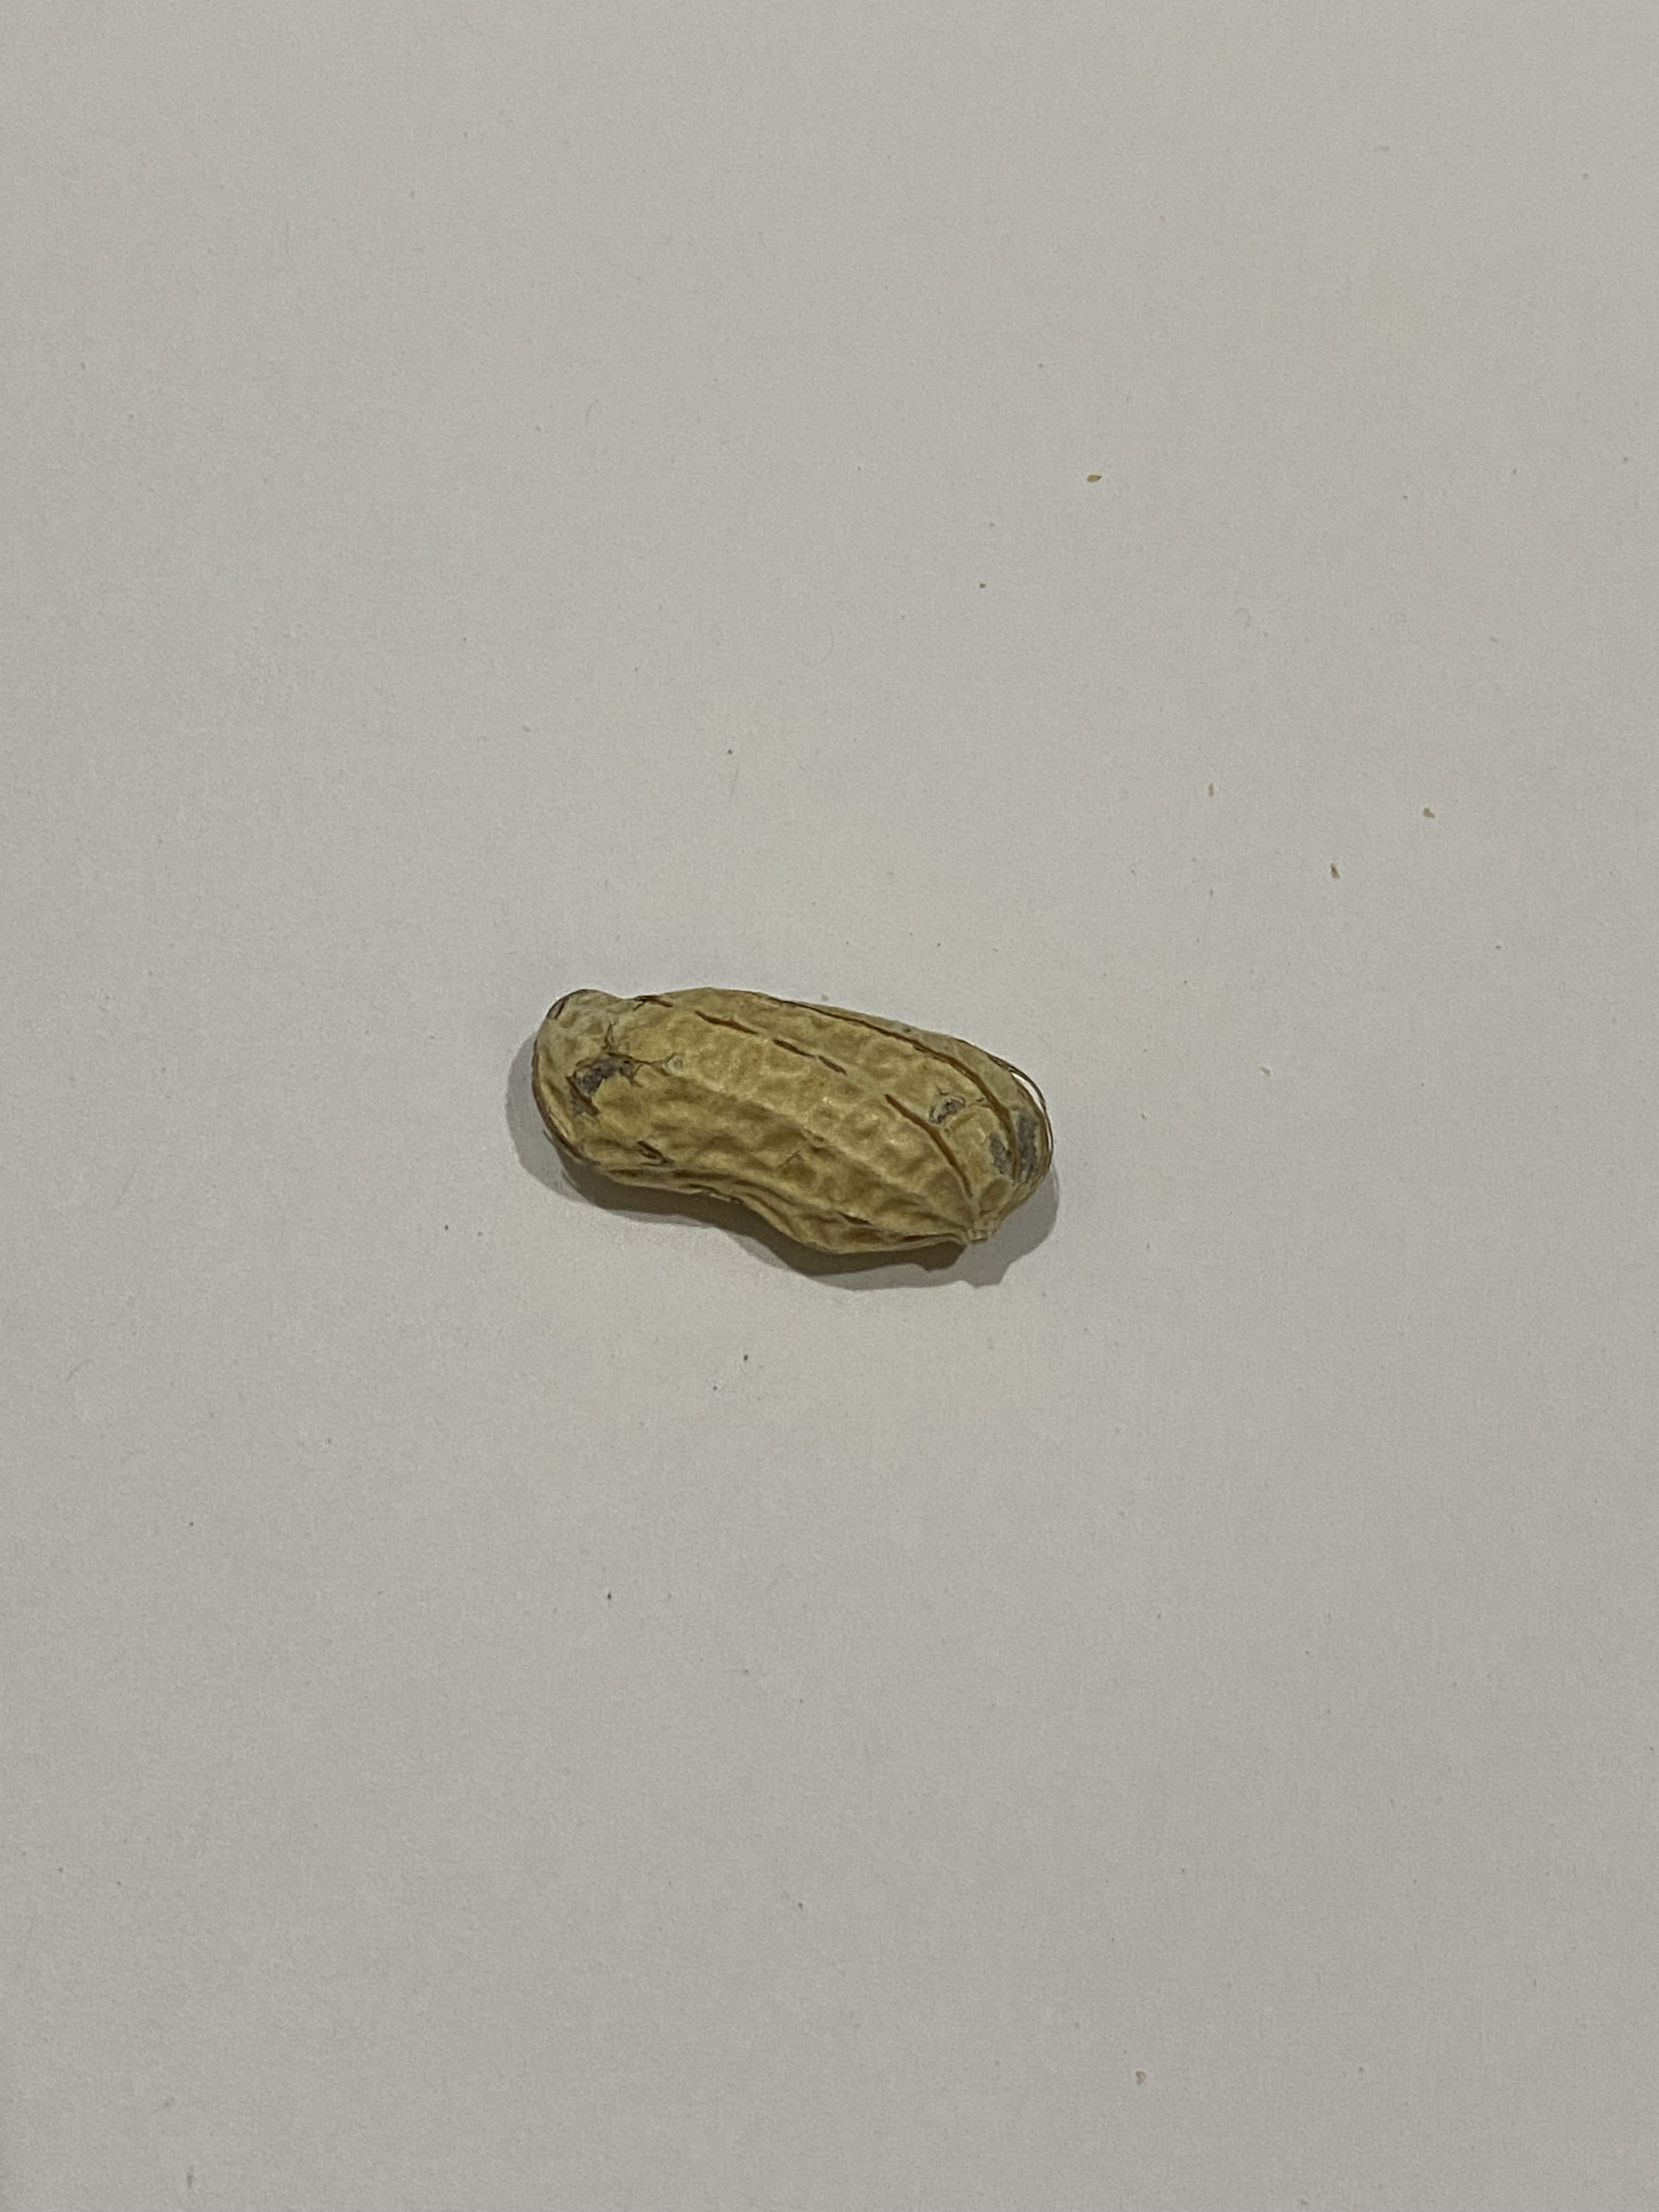kacang2: (495, 958, 1072, 1270)
